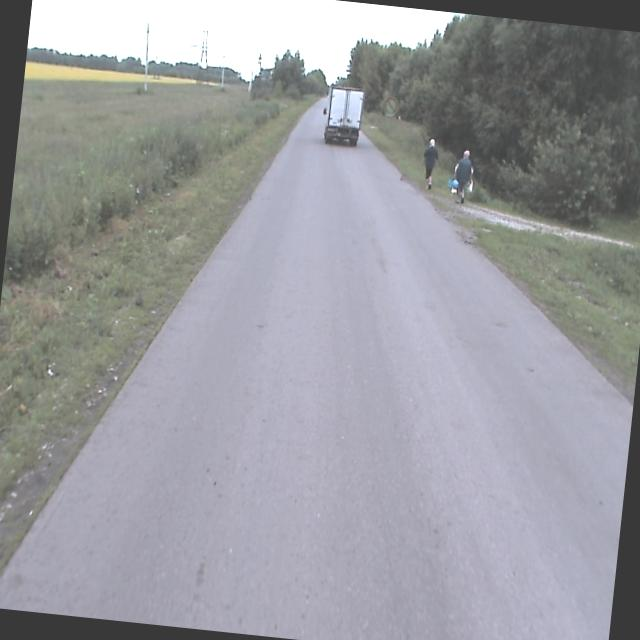road: (0, 95, 632, 640)
